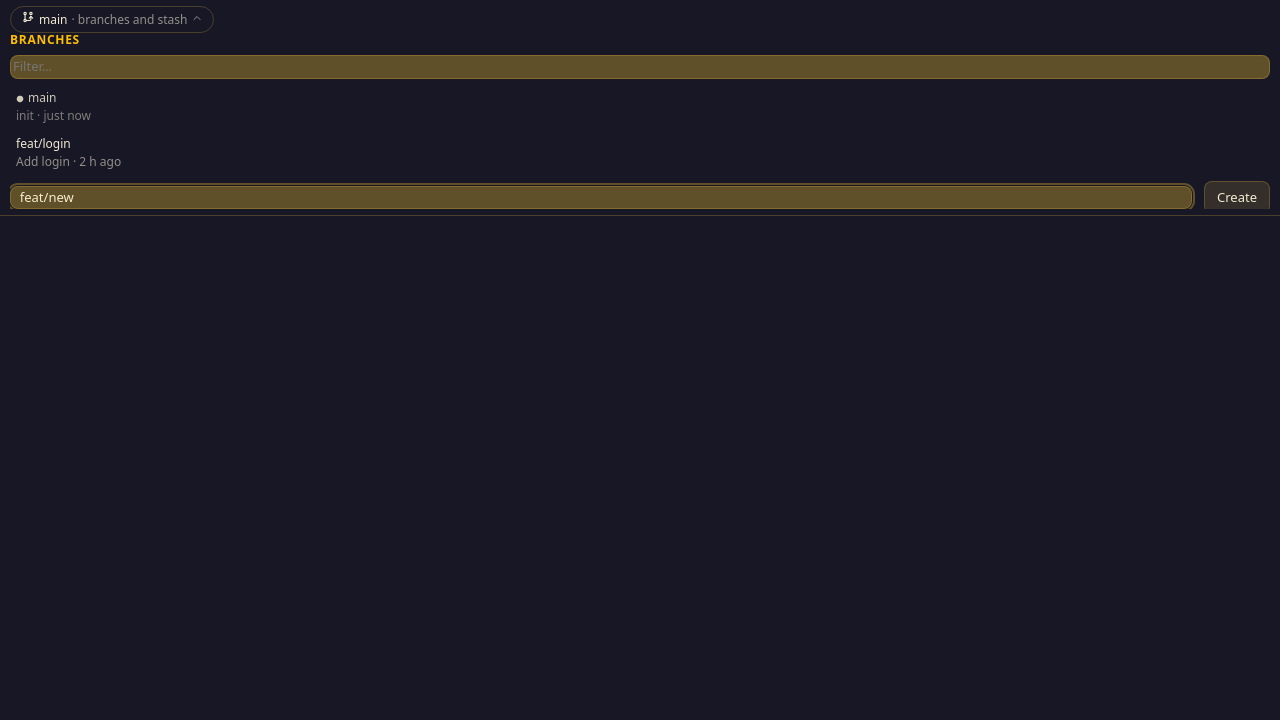
Scenario: BranchBar › creates a branch from the typed name, and refuses an empty one
The width and height of the screenshot is (1280, 720).
Earlier steps of the test are not shown.
(page scrolled)
Step 1. Click the button "Create" → (1237, 197), box 1204,180 -> 1270,214
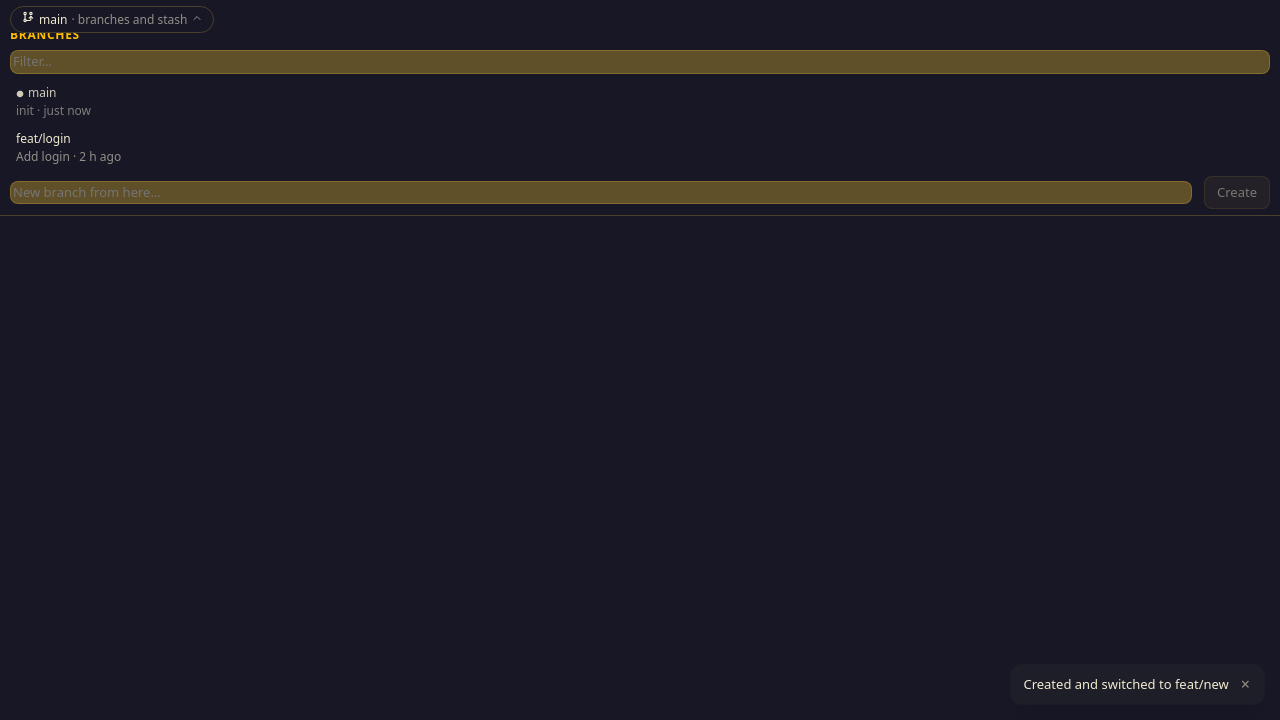
Check: the field named "Branch to create from here" is empty, box 10,180 -> 1192,204
